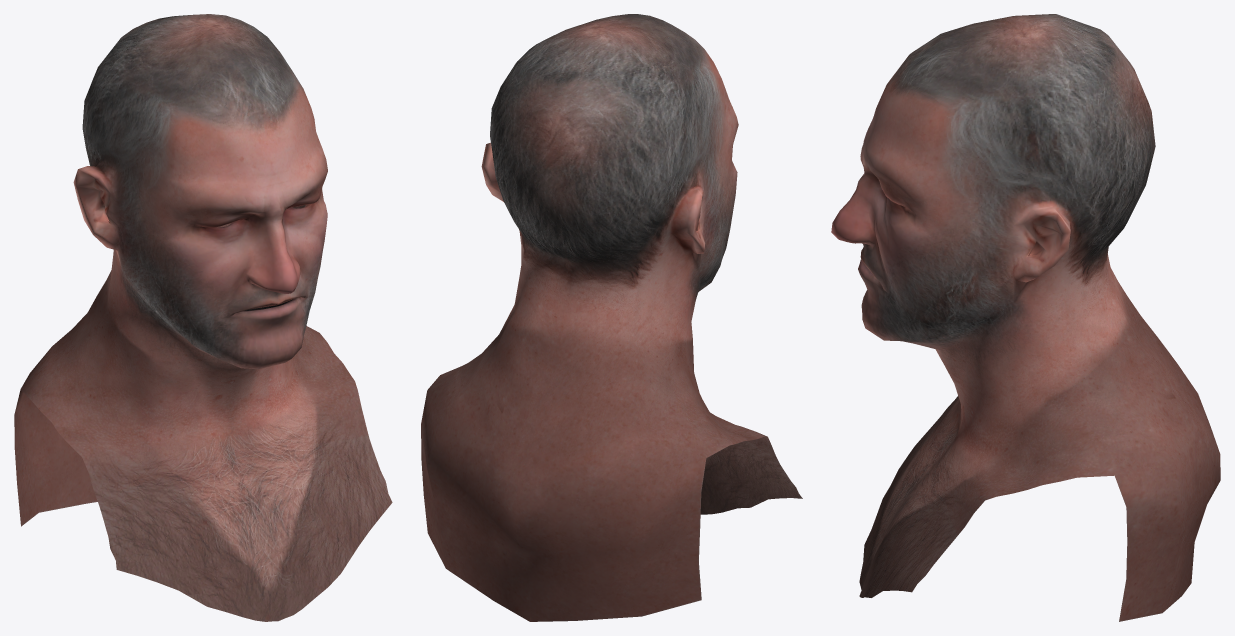
File: headShape.obj
3 renders of one model, left to right at view 1: azimuth 30°, elevation 25°; view 2: azimuth 150°, elevation 25°; view 3: azimuth 270°, elevation 25°, orthographic. The views are drawn at different scales.
Visible parts, largest first — view 1: head Head_Grp SkinnedMesh Mesh CharacterRoot; view 2: head Head_Grp SkinnedMesh Mesh CharacterRoot; view 3: head Head_Grp SkinnedMesh Mesh CharacterRoot.
Boxes of the visible parts, x1,y1,x2,y2 form: head Head_Grp SkinnedMesh Mesh CharacterRoot: (14,14,392,621); head Head_Grp SkinnedMesh Mesh CharacterRoot: (421,14,802,621); head Head_Grp SkinnedMesh Mesh CharacterRoot: (831,14,1220,621).
Bounding box in the file's own units: 26.6 × 47.74 × 29.65.
1 material, 1 textured.
